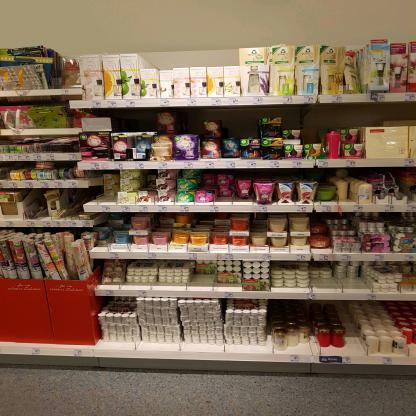Void: (143, 53, 238, 64), (226, 108, 257, 137), (328, 107, 384, 122), (114, 110, 154, 130), (302, 108, 323, 141), (319, 280, 364, 292), (179, 112, 199, 135), (285, 108, 301, 129), (195, 273, 211, 289)
